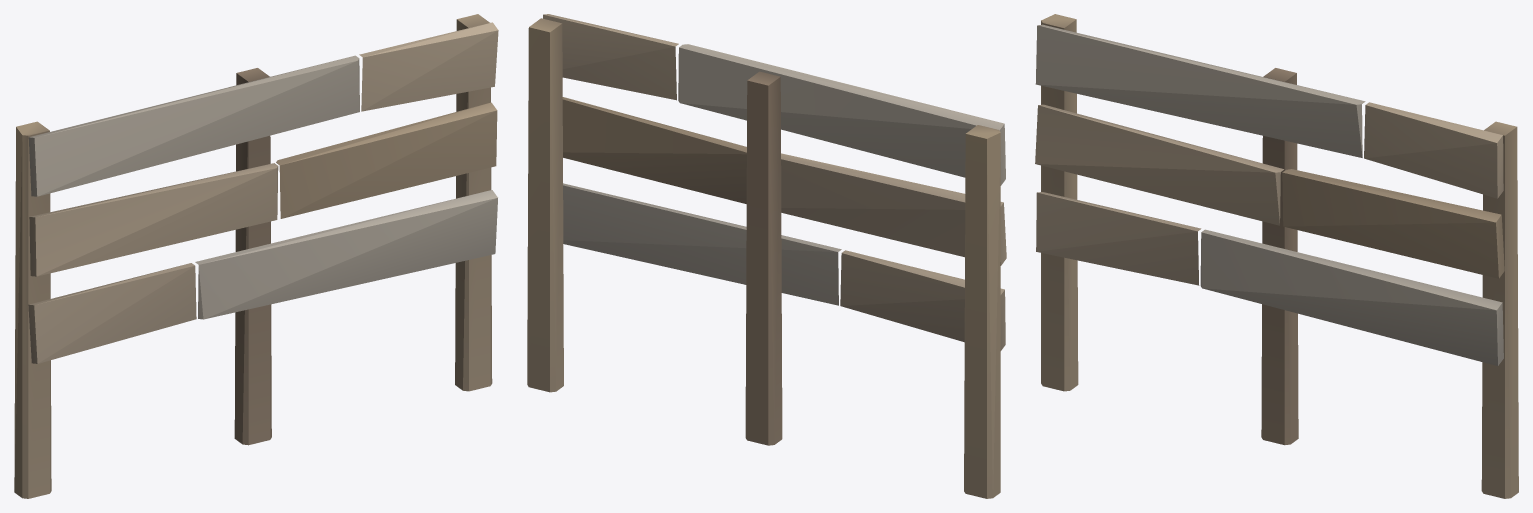
Rendered from fence.lod1.glb.
3 views of the same model, side by side, from view 1: azimuth 30°, elevation 25°; view 2: azimuth 150°, elevation 25°; view 3: azimuth 330°, elevation 25° (orthographic).
Size of the model in its own units: 2.41 by 1.79 by 0.18.
